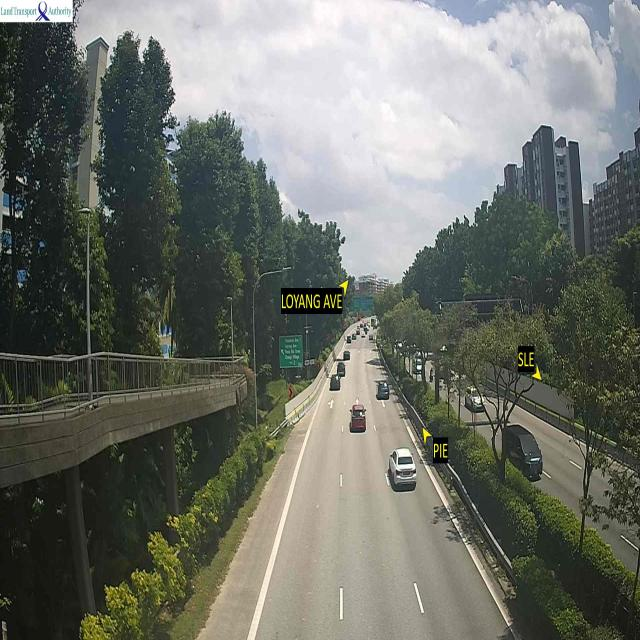vehicles: (504, 423, 546, 485), (463, 385, 491, 420), (390, 443, 413, 485), (352, 404, 372, 433), (375, 375, 394, 401), (326, 373, 344, 394), (342, 346, 353, 362), (338, 362, 347, 374)
